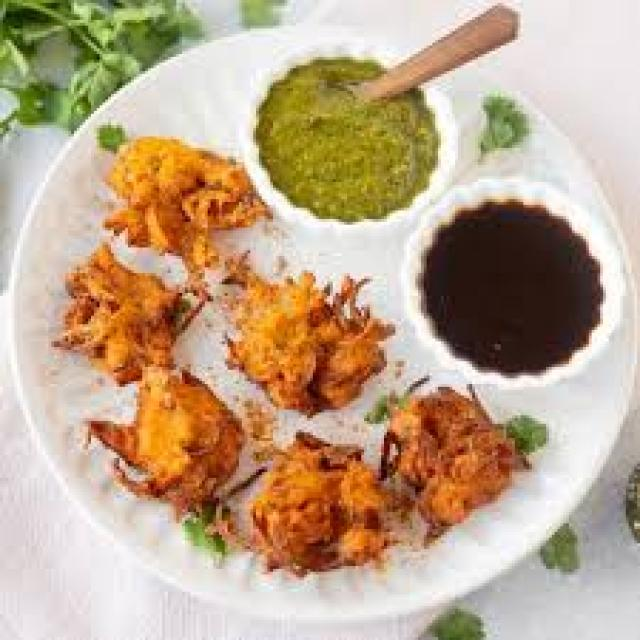BAJI: (54, 137, 526, 569)
